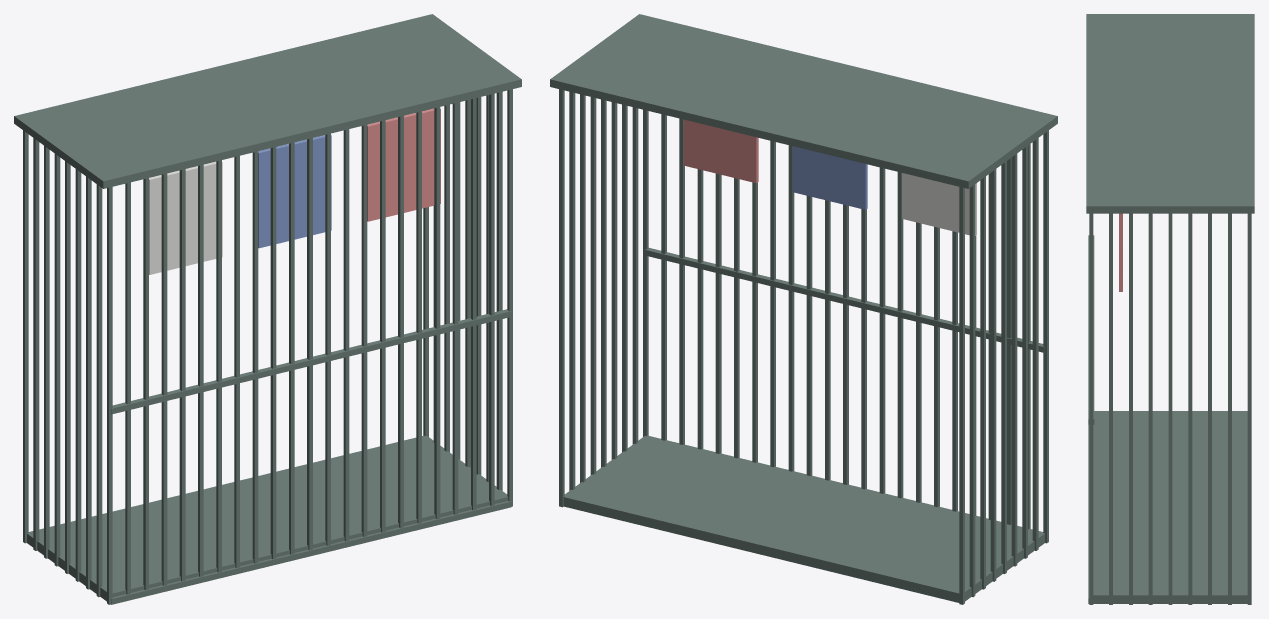
File: cage_balcony.glb
3 renders of one model, left to right at view 1: azimuth 30°, elevation 25°; view 2: azimuth 150°, elevation 25°; view 3: azimuth 270°, elevation 25°, orthographic. The views are drawn at different scales.
Parts seen in each view (by area): view 1: cage_balcony; view 2: cage_balcony; view 3: cage_balcony.
Boxes of the visible parts, box(x1,y1,x2,y2) form: cage_balcony: box(14, 14, 521, 604); cage_balcony: box(550, 14, 1057, 604); cage_balcony: box(1086, 14, 1254, 604).
Size of the model in its own units: 2.3 by 2.24 by 0.85.
